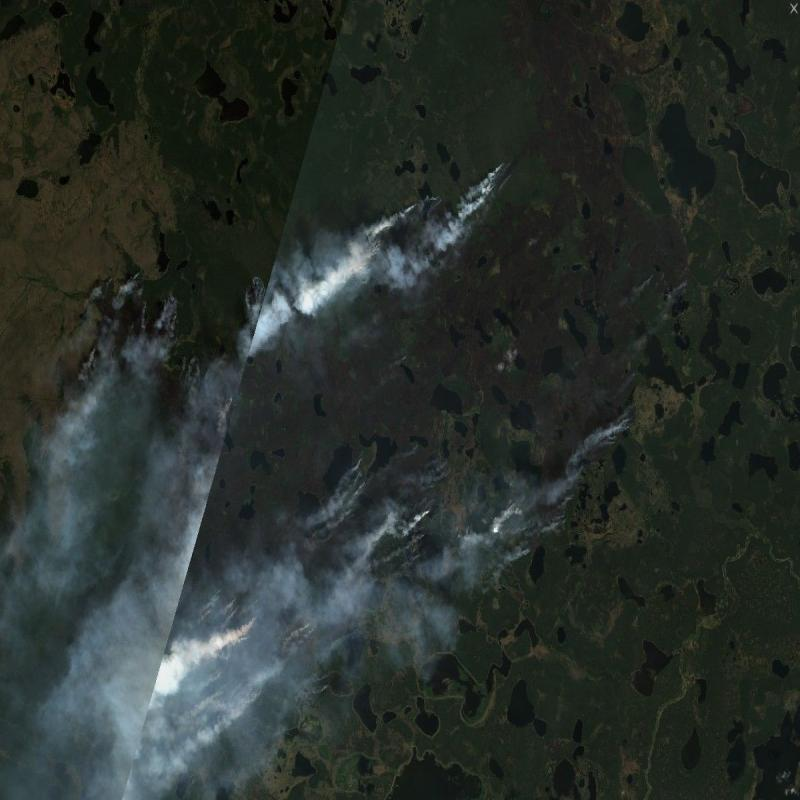fire: (59, 148, 536, 381), (118, 441, 447, 745), (487, 472, 563, 576), (582, 390, 648, 474)
